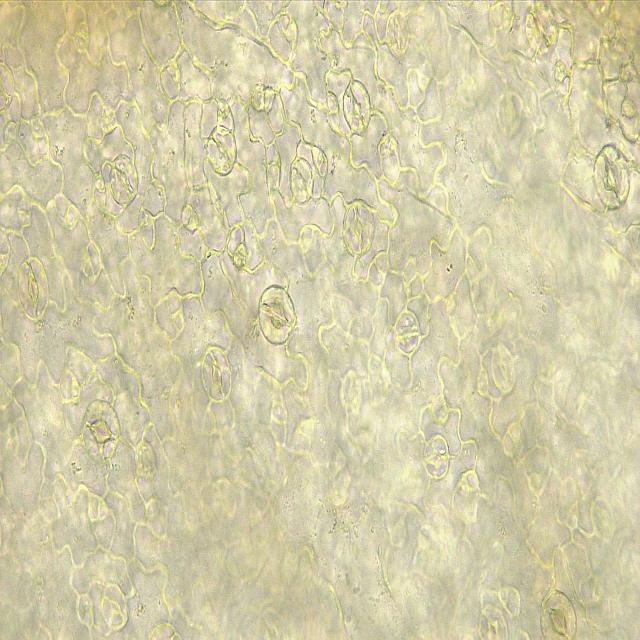Stomata: (592, 143, 632, 211), (82, 397, 120, 462), (258, 283, 296, 346), (17, 256, 50, 319), (540, 588, 578, 640), (201, 347, 233, 403), (205, 123, 237, 177), (343, 204, 375, 256), (343, 78, 371, 137), (108, 153, 139, 205), (386, 11, 408, 57)
